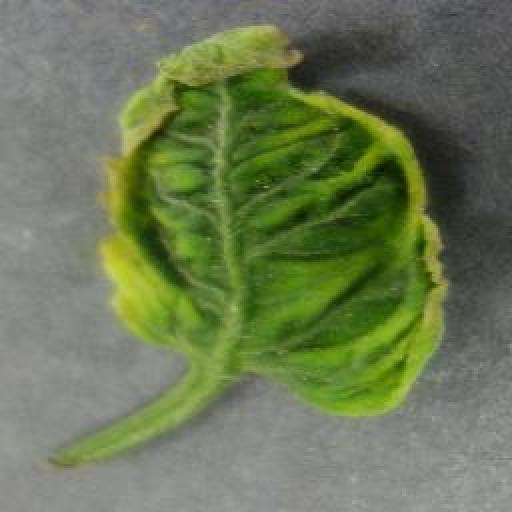Yellow Leaf Curl Virus: (92, 21, 449, 419)
